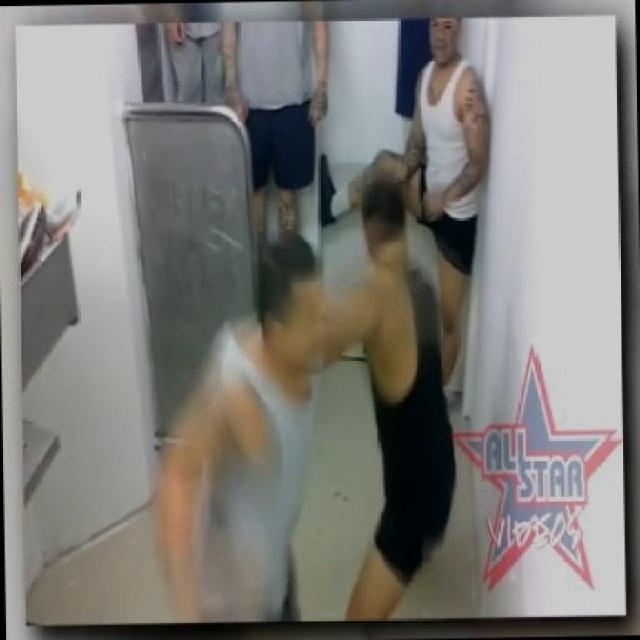fight: (137, 167, 476, 636)
non-fight: (320, 16, 492, 398), (223, 14, 335, 286)
